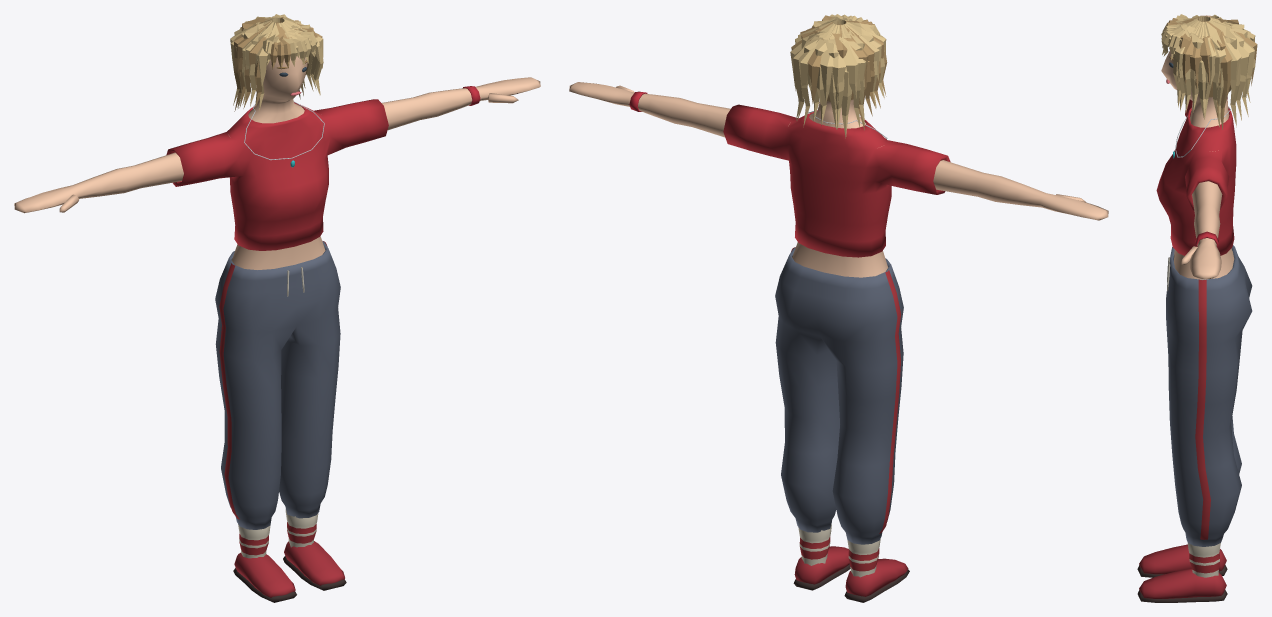
The model's file is anna.glb.
The picture shows the model from 3 angles, left to right: view 1: azimuth 30°, elevation 25°; view 2: azimuth 150°, elevation 25°; view 3: azimuth 270°, elevation 25°; orthographic projection. The views are drawn at different scales.
Visible parts, largest first — view 1: Anna_Pants, Anna_Shirt, Anna_Body, Anna_Feet, Anna_Hair; view 2: Anna_Pants, Anna_Shirt, Anna_Body, Anna_Hair, Anna_Feet; view 3: Anna_Pants, Anna_Hair, Anna_Shirt, Anna_Feet, Anna_Body, Anna_Accessories.
Boxes of the visible parts, x1,y1,x2,y2 form: Anna_Pants: [215, 241, 340, 529]; Anna_Shirt: [166, 99, 388, 250]; Anna_Body: [14, 55, 540, 269]; Anna_Feet: [233, 509, 346, 602]; Anna_Hair: [230, 14, 323, 111]; Anna_Pants: [775, 247, 903, 544]; Anna_Shirt: [723, 104, 950, 257]; Anna_Body: [569, 82, 1108, 277]; Anna_Hair: [790, 14, 887, 138]; Anna_Feet: [793, 523, 909, 602]; Anna_Pants: [1166, 245, 1252, 546]; Anna_Hair: [1161, 14, 1257, 129]; Anna_Shirt: [1156, 97, 1236, 255]; Anna_Feet: [1137, 543, 1227, 602]; Anna_Body: [1161, 15, 1234, 279]; Anna_Accessories: [1173, 106, 1230, 246].
Size of the model in its own units: 1.7 by 1.7 by 0.3276.
